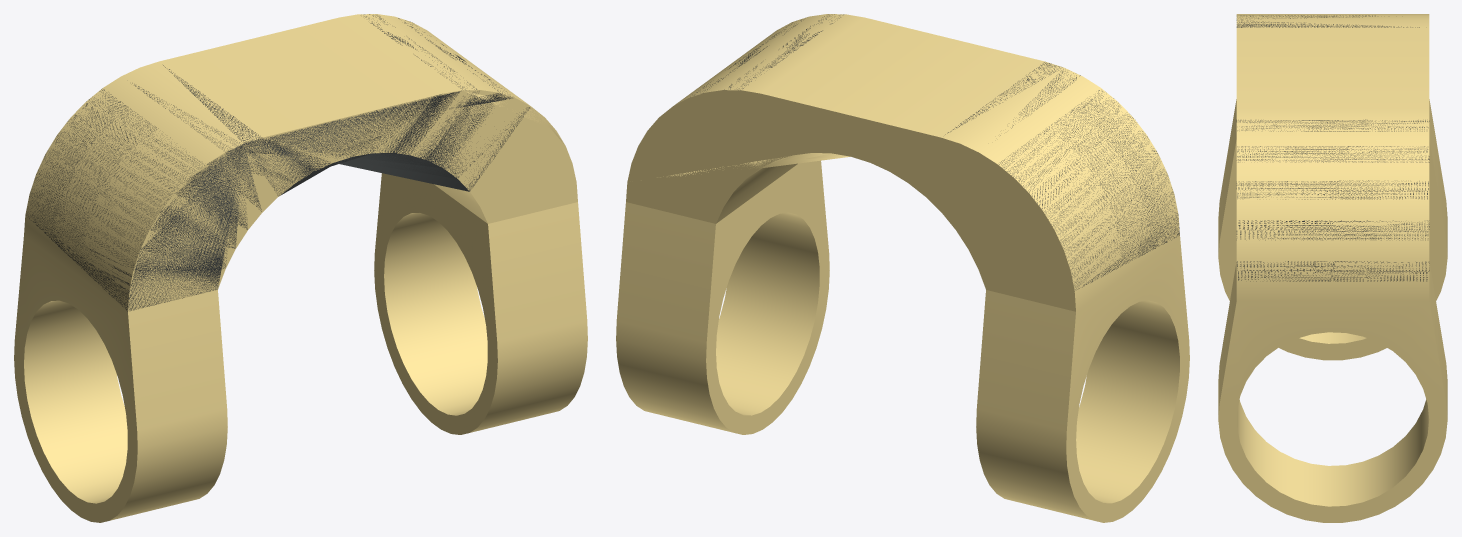
The model's file is larm_link1.dae.
The picture shows the model from 3 angles, left to right: view 1: azimuth 30°, elevation 25°; view 2: azimuth 150°, elevation 25°; view 3: azimuth 270°, elevation 25°; orthographic projection. The views are drawn at different scales.
Parts seen in each view (by area): view 1: node0, node2, node1, node3; view 2: node0, node2, node3, node1; view 3: node0, node1, node2, node3.
Boxes of the visible parts, bbox=[...] form: node0: bbox=[14, 14, 587, 522]; node2: bbox=[26, 14, 529, 311]; node1: bbox=[361, 14, 516, 96]; node3: bbox=[382, 18, 563, 143]; node0: bbox=[616, 14, 1189, 522]; node2: bbox=[694, 14, 1179, 289]; node3: bbox=[641, 14, 850, 180]; node1: bbox=[679, 14, 863, 102]; node0: bbox=[1218, 14, 1447, 522]; node1: bbox=[1236, 110, 1429, 300]; node2: bbox=[1236, 15, 1429, 281]; node3: bbox=[1236, 119, 1425, 131].
Bounding box in the file's own units: 0.05 × 0.0405 × 0.0238.
